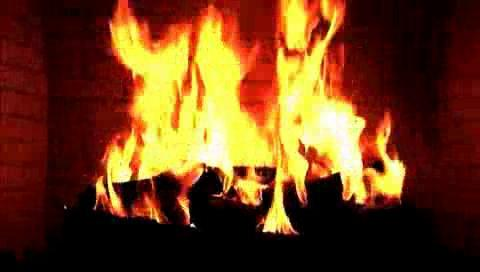fire: (89, 0, 416, 233)
